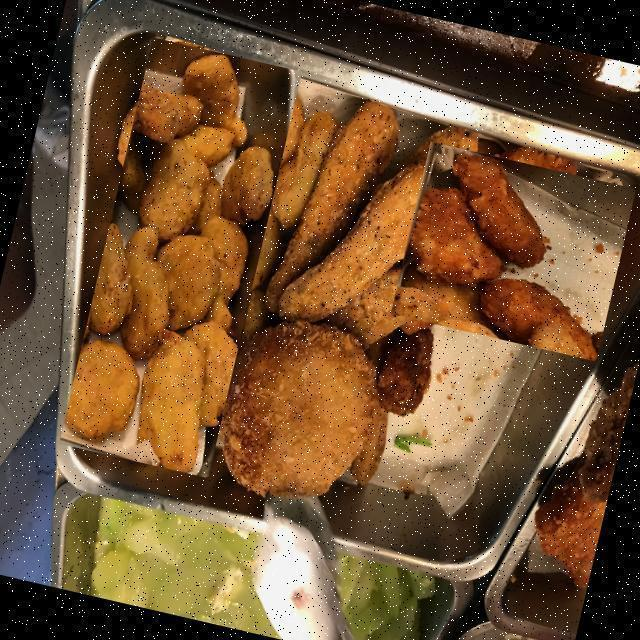chicken_nuggets: (58, 38, 302, 478)
triangle_hash_brown: (396, 134, 630, 367)
